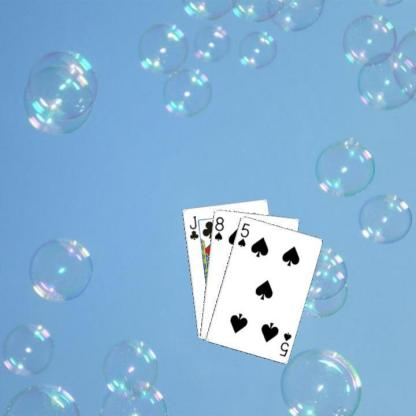5S: (235, 220, 251, 248), (277, 329, 292, 358)
8S: (211, 214, 225, 242)
JC: (187, 213, 199, 241)
